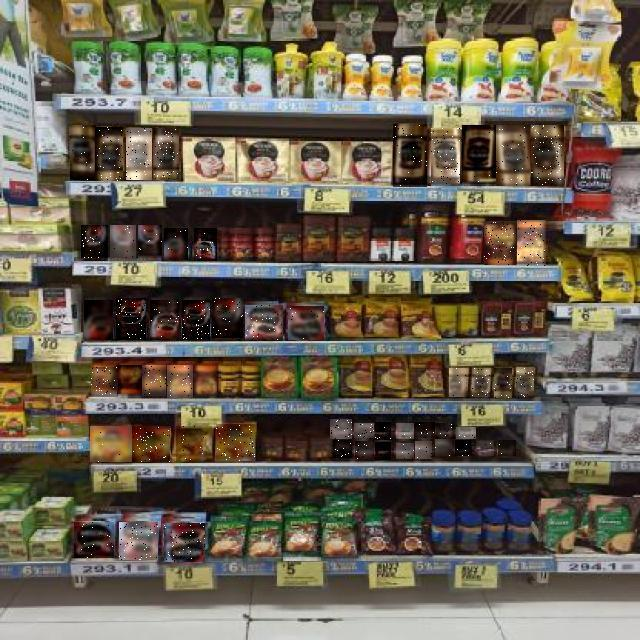Coffee: (393, 124, 427, 187), (496, 125, 530, 186), (462, 126, 496, 186), (531, 125, 564, 186), (431, 128, 460, 186), (164, 523, 205, 562), (90, 426, 132, 462), (95, 127, 123, 181), (119, 522, 158, 560), (216, 424, 255, 461), (74, 522, 114, 558), (70, 125, 96, 180), (484, 221, 516, 265), (518, 220, 548, 266), (132, 426, 170, 462), (126, 128, 152, 180), (153, 128, 179, 180), (245, 305, 283, 340), (176, 427, 212, 463), (116, 298, 146, 340), (212, 299, 243, 339), (288, 306, 324, 340), (150, 300, 179, 340), (84, 300, 113, 340), (182, 300, 210, 340), (81, 225, 108, 258), (110, 225, 136, 258), (167, 365, 193, 398), (138, 226, 162, 260), (164, 228, 188, 260), (118, 366, 142, 398), (143, 366, 167, 398), (194, 228, 217, 261), (194, 367, 217, 399), (91, 368, 117, 396), (517, 367, 535, 398), (494, 368, 512, 398), (450, 368, 468, 397), (472, 368, 490, 397), (330, 419, 352, 439), (333, 440, 352, 458), (414, 422, 435, 438), (376, 422, 394, 440), (436, 440, 454, 458), (355, 441, 373, 459), (416, 441, 434, 459), (376, 443, 394, 461), (354, 424, 374, 440), (397, 423, 415, 439), (437, 423, 455, 439), (498, 441, 516, 457), (456, 441, 474, 457), (477, 441, 495, 457), (397, 443, 415, 459), (456, 427, 476, 439)
